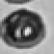correct: (0, 10, 49, 49)
